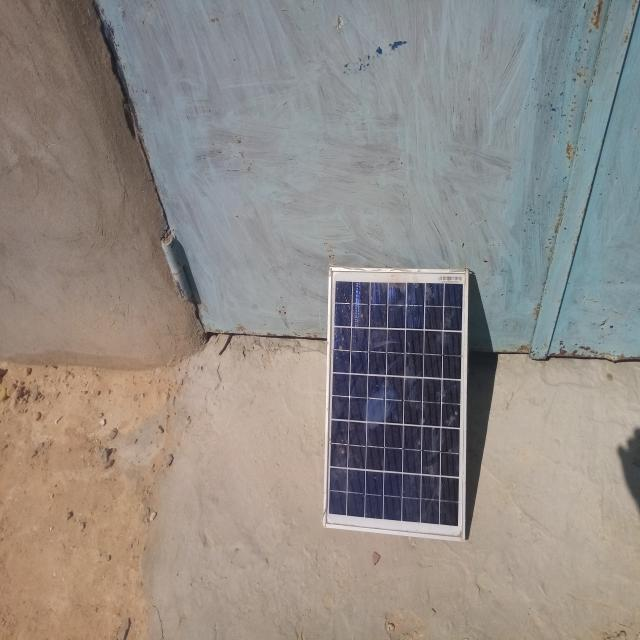faulty: (323, 268, 468, 539)
